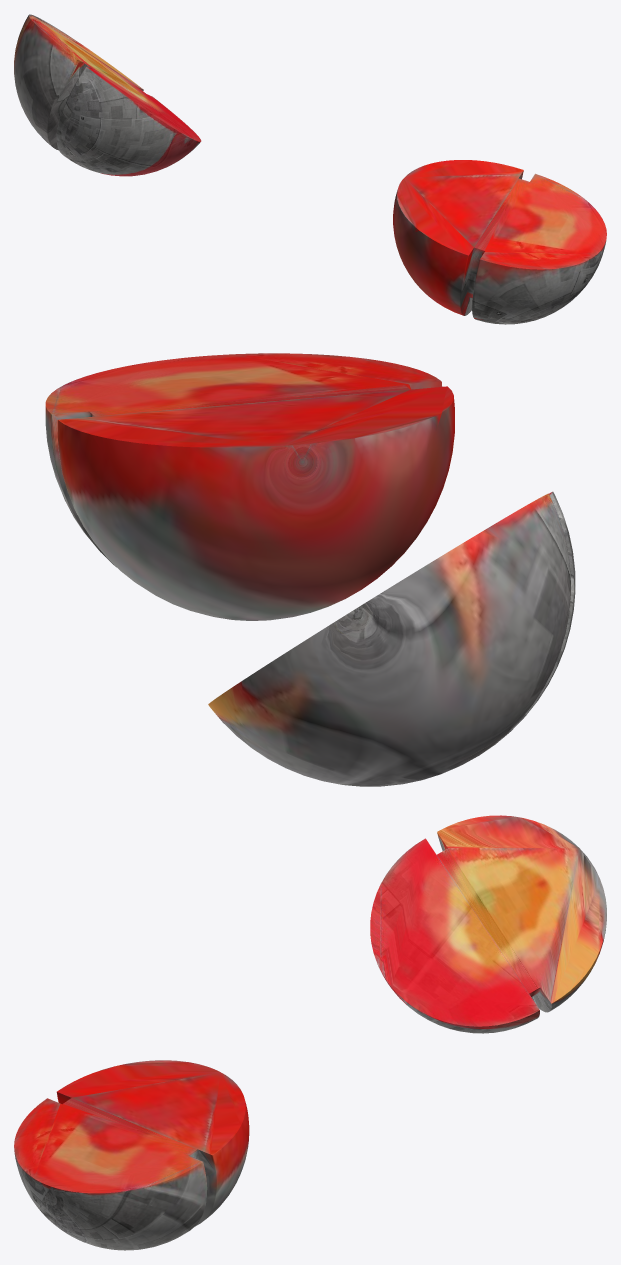
Rendered from Drone166_000014.obj.
3 views of the same model, one above another, from view 1: azimuth 30°, elevation 25°; view 2: azimuth 150°, elevation 25°; view 3: azimuth 270°, elevation 25° (orthographic). The views are drawn at different scales.
Parts seen in each view (by area): view 1: Sphere.001_Sphere.005, Sphere.000_Sphere.004; view 2: Sphere.001_Sphere.005, Sphere.000_Sphere.004; view 3: Sphere.000_Sphere.004, Sphere.001_Sphere.005.
Part boxes in pixels (x1=…): Sphere.001_Sphere.005: x1=393, y1=160, x2=606, y2=324; Sphere.000_Sphere.004: x1=14, y1=14, x2=201, y2=176; Sphere.001_Sphere.005: x1=45, y1=353, x2=454, y2=620; Sphere.000_Sphere.004: x1=208, y1=491, x2=575, y2=786; Sphere.000_Sphere.004: x1=370, y1=815, x2=606, y2=1033; Sphere.001_Sphere.005: x1=14, y1=1060, x2=249, y2=1250.
Bounding box in the file's own units: 4.59 × 2.57 × 5.27.
Materials: 4 (4 with a texture image).
